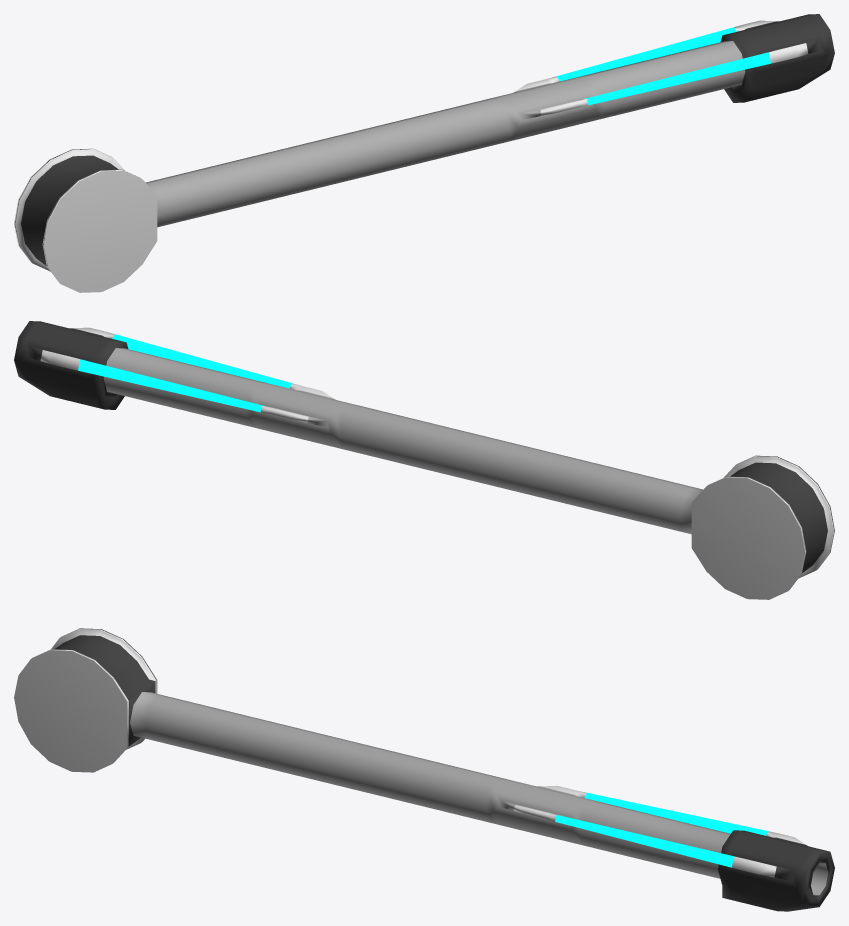
File: SM_Tank_Barrel.fbx
3 renders of one model, top to bottom at view 1: azimuth 30°, elevation 25°; view 2: azimuth 150°, elevation 25°; view 3: azimuth 330°, elevation 25°, orthographic.
Parts seen in each view (by area): view 1: TankBarrel; view 2: TankBarrel; view 3: TankBarrel.
Boxes of the visible parts, x1=… form: TankBarrel: x1=14, y1=14, x2=834, y2=292; TankBarrel: x1=14, y1=321, x2=834, y2=599; TankBarrel: x1=14, y1=628, x2=834, y2=911.
Bounding box in the file's own units: 75.5 × 11 × 6.55.
